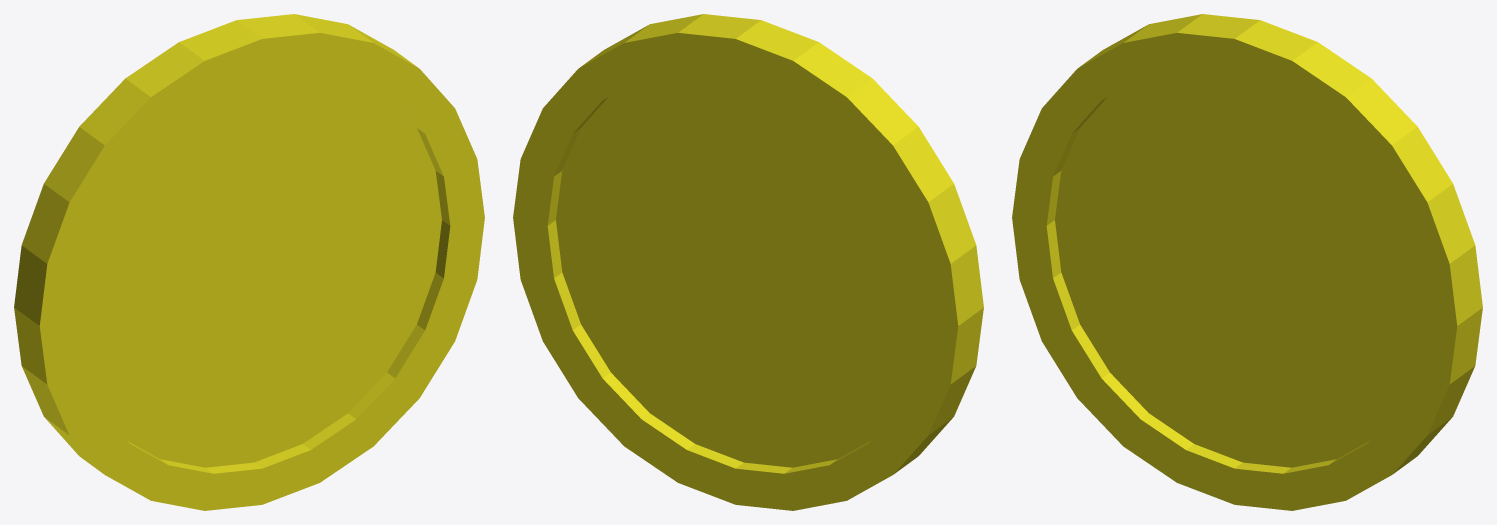
Rendered from coin.dae.
3 renders of one model, left to right at view 1: azimuth 30°, elevation 25°; view 2: azimuth 150°, elevation 25°; view 3: azimuth 330°, elevation 25°, orthographic.
Visible parts, largest first — view 1: coin; view 2: coin; view 3: coin.
Part boxes in pixels (left/top/right/bottom): coin: left=14, top=14, right=484, bottom=510; coin: left=513, top=14, right=983, bottom=510; coin: left=1012, top=14, right=1482, bottom=510.
Bounding box in the file's own units: 2 × 0.2 × 2.
